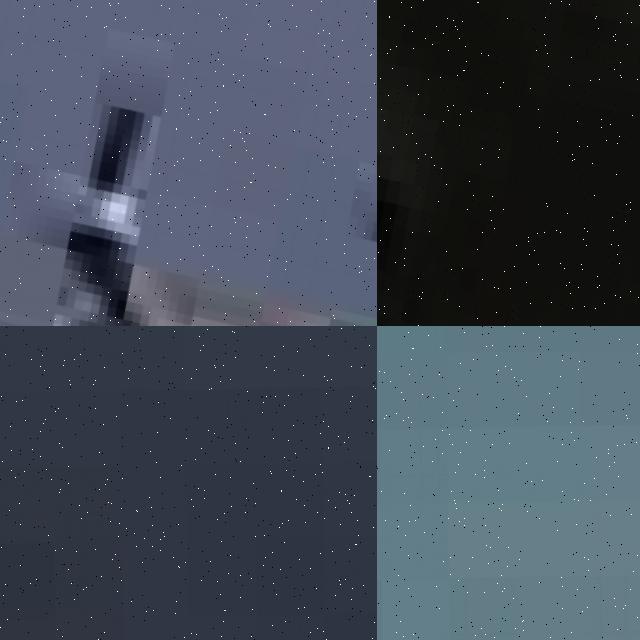drone: (0, 0, 377, 326), (377, 0, 640, 326)
